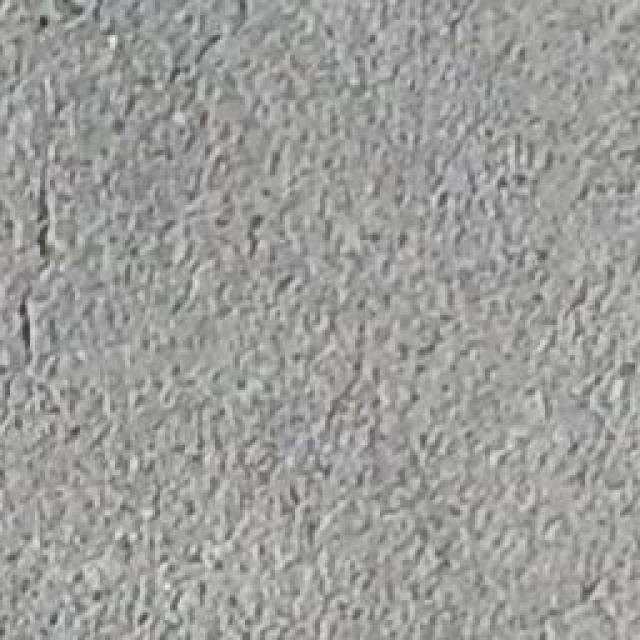concrete-crack: (0, 99, 69, 427)
